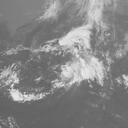cyclone: (55, 33, 106, 85)
